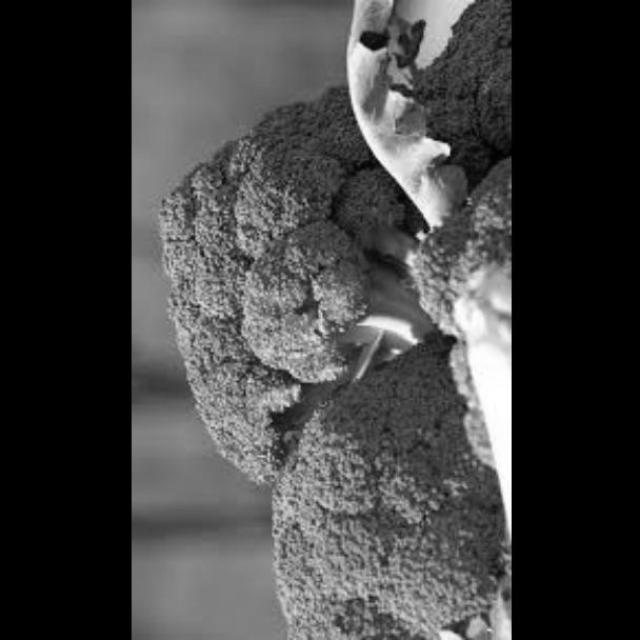bong cai xanh: (158, 74, 420, 459), (250, 353, 504, 639), (371, 0, 509, 354)
